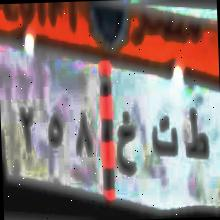2: (18, 101, 38, 158)
5: (44, 111, 66, 158)
8: (73, 107, 94, 164)
Taa: (182, 102, 208, 164)
khaa: (115, 105, 136, 184)
taa: (148, 113, 180, 159)
